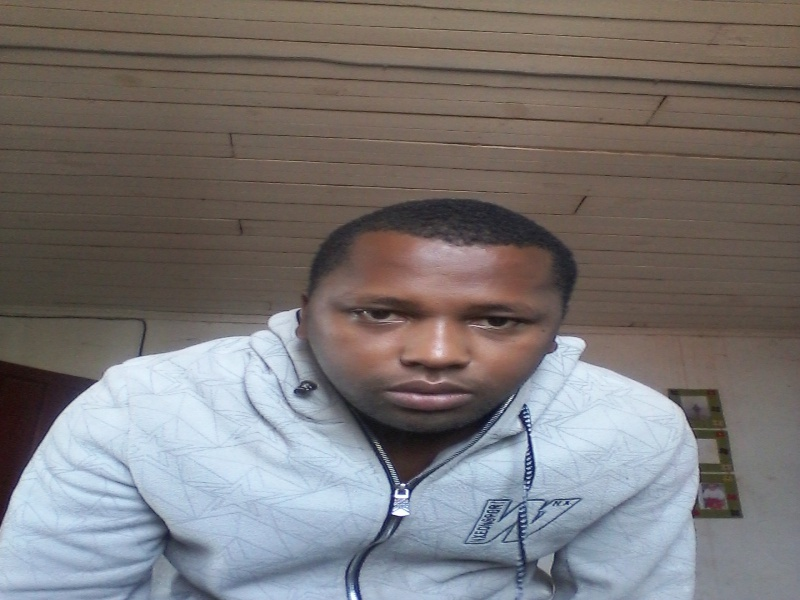TsisyArotava: (293, 190, 587, 453)
